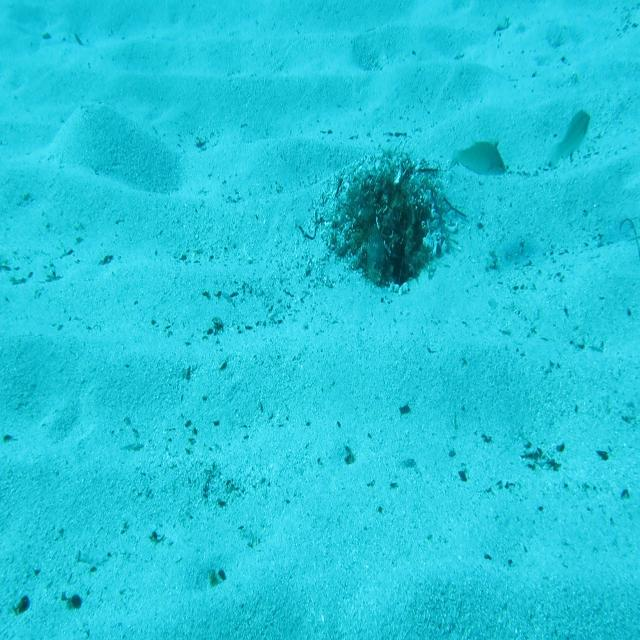BK_SW: (451, 134, 510, 184)
female: (543, 108, 593, 170)
nest: (334, 156, 455, 294)
